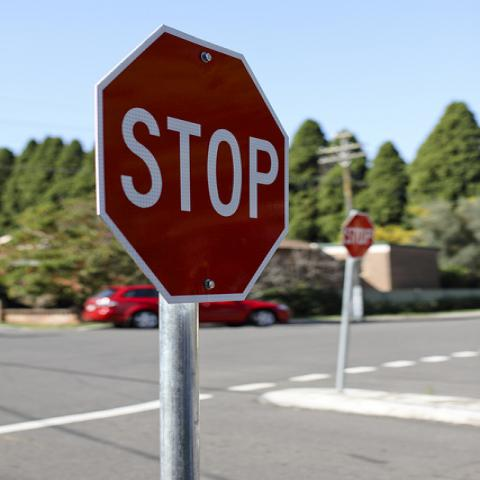car: (84, 283, 285, 328)
